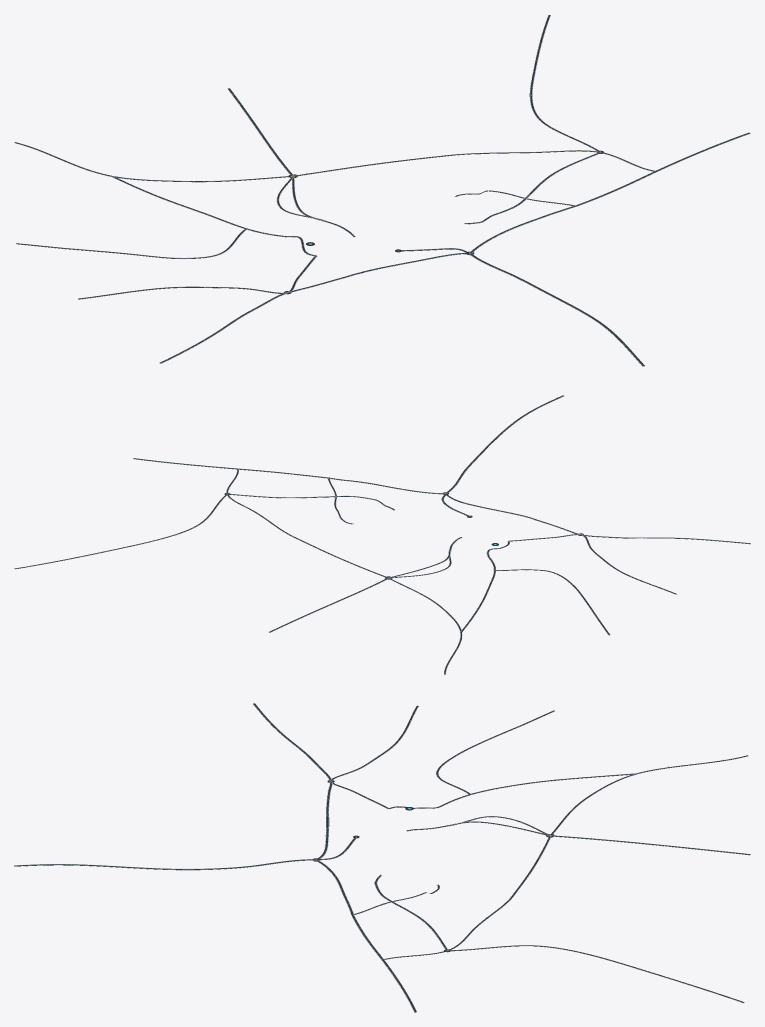
File: ring0_true_osm_arterial_and_6_roundabouts_w2.glb
3 renders of one model, top to bottom at view 1: azimuth 30°, elevation 25°; view 2: azimuth 150°, elevation 25°; view 3: azimuth 270°, elevation 25°, orthographic. The views are drawn at different scales.
Size of the model in its own units: 5836 by 63.94 by 5824.
